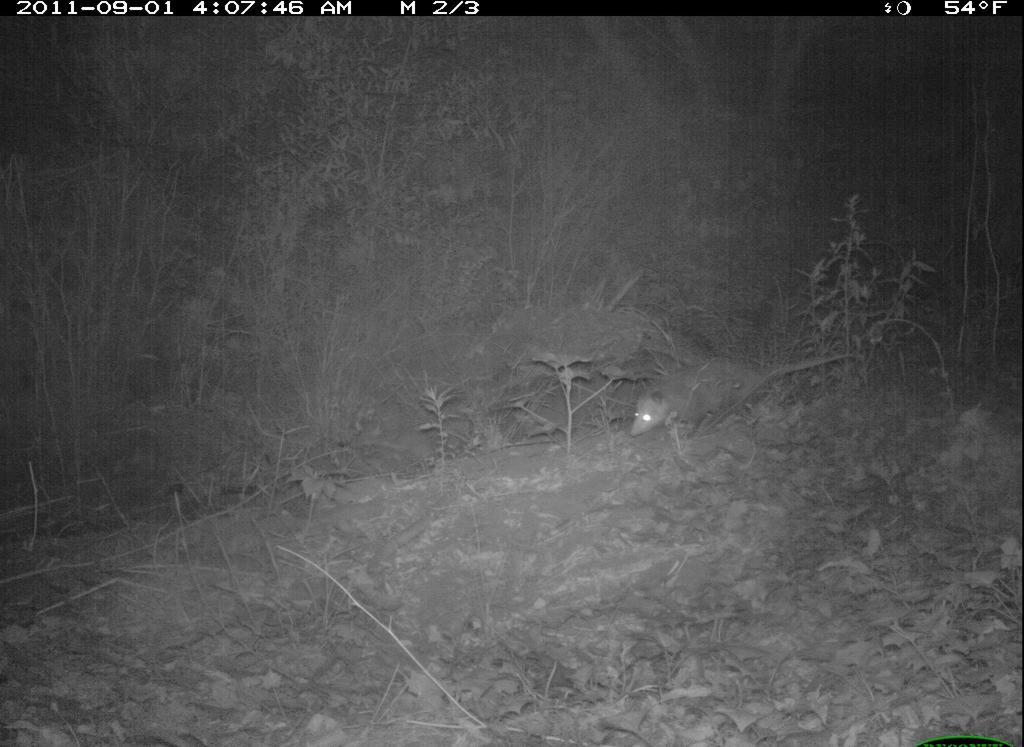opossum: (629, 349, 868, 441)
